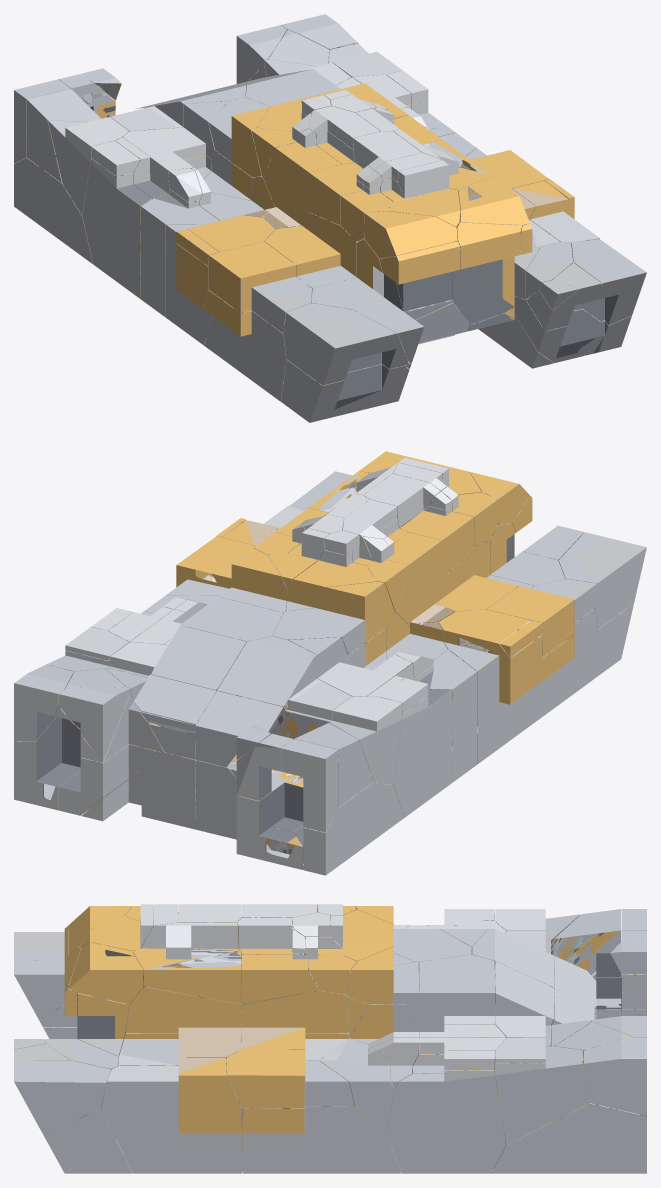
Rendered from weaponBarrelEXPLODE_space.fbx.
3 views of the same model, one above another, from view 1: azimuth 30°, elevation 25°; view 2: azimuth 150°, elevation 25°; view 3: azimuth 270°, elevation 25° (orthographic).
Visible parts, largest first — view 1: craft_cargoB.001_cell.015, craft_cargoB.001_cell.062, craft_cargoB.001_cell.014, craft_cargoB.001_cell.078, craft_cargoB.001_cell.045, craft_cargoB.001_cell.017, craft_cargoB.001_cell.052, craft_cargoB.001_cell.095, craft_cargoB.001_cell.056, craft_cargoB.001_cell.039, craft_cargoB.001_cell.068, craft_cargoB.001_cell.069 (+48 smaller); view 2: craft_cargoB.001_cell.078, craft_cargoB.001_cell.066, craft_cargoB.001_cell.014, craft_cargoB.001_cell.098, craft_cargoB.001_cell.018, craft_cargoB.001_cell.039, craft_cargoB.001_cell.037, craft_cargoB.001_cell.015, craft_cargoB.001_cell.060, craft_cargoB.001_cell.043, craft_cargoB.001_cell.017, craft_cargoB.001_cell.045 (+47 smaller); view 3: craft_cargoB.001_cell.071, craft_cargoB.001_cell.010, craft_cargoB.001_cell.087, craft_cargoB.001_cell.060, craft_cargoB.001_cell.003, craft_cargoB.001_cell.048, craft_cargoB.001_cell.055, craft_cargoB.001_cell.076, craft_cargoB.001_cell.006, craft_cargoB.001_cell.069, craft_cargoB.001_cell.074, craft_cargoB.001_cell.080 (+49 smaller).
Boxes of the visible parts, bbox=[...] form: craft_cargoB.001_cell.015: bbox=[283, 303, 408, 385]; craft_cargoB.001_cell.062: bbox=[452, 221, 540, 324]; craft_cargoB.001_cell.014: bbox=[82, 158, 151, 299]; craft_cargoB.001_cell.078: bbox=[165, 215, 275, 345]; craft_cargoB.001_cell.045: bbox=[208, 241, 311, 333]; craft_cargoB.001_cell.017: bbox=[203, 290, 286, 401]; craft_cargoB.001_cell.052: bbox=[281, 360, 407, 422]; craft_cargoB.001_cell.095: bbox=[264, 212, 357, 292]; craft_cargoB.001_cell.056: bbox=[263, 128, 341, 229]; craft_cargoB.001_cell.039: bbox=[14, 158, 93, 264]; craft_cargoB.001_cell.068: bbox=[141, 189, 219, 317]; craft_cargoB.001_cell.069: bbox=[566, 239, 646, 325]; craft_cargoB.001_cell.078: bbox=[438, 609, 542, 764]; craft_cargoB.001_cell.066: bbox=[217, 636, 351, 757]; craft_cargoB.001_cell.014: bbox=[392, 689, 452, 817]; craft_cargoB.001_cell.098: bbox=[108, 625, 246, 736]; craft_cargoB.001_cell.018: bbox=[273, 581, 394, 654]; craft_cargoB.001_cell.039: bbox=[294, 781, 404, 875]; craft_cargoB.001_cell.037: bbox=[81, 752, 206, 831]; craft_cargoB.001_cell.015: bbox=[558, 532, 646, 628]; craft_cargoB.001_cell.060: bbox=[14, 717, 112, 810]; craft_cargoB.001_cell.043: bbox=[106, 668, 216, 759]; craft_cargoB.001_cell.017: bbox=[485, 608, 597, 735]; craft_cargoB.001_cell.045: bbox=[487, 579, 597, 656]; craft_cargoB.001_cell.071: bbox=[386, 1066, 505, 1173]; craft_cargoB.001_cell.010: bbox=[101, 1057, 242, 1173]; craft_cargoB.001_cell.087: bbox=[242, 1106, 401, 1173]; craft_cargoB.001_cell.060: bbox=[491, 1093, 646, 1173]; craft_cargoB.001_cell.003: bbox=[132, 922, 241, 1003]; craft_cargoB.001_cell.048: bbox=[494, 1046, 589, 1144]; craft_cargoB.001_cell.055: bbox=[227, 1049, 354, 1108]; craft_cargoB.001_cell.076: bbox=[126, 986, 241, 1057]; craft_cargoB.001_cell.006: bbox=[406, 954, 494, 1031]; craft_cargoB.001_cell.069: bbox=[14, 1060, 111, 1134]; craft_cargoB.001_cell.074: bbox=[242, 990, 349, 1049]; craft_cargoB.001_cell.080: bbox=[584, 1037, 646, 1115].
Bounding box in the file's own units: 150 × 90 × 250.
